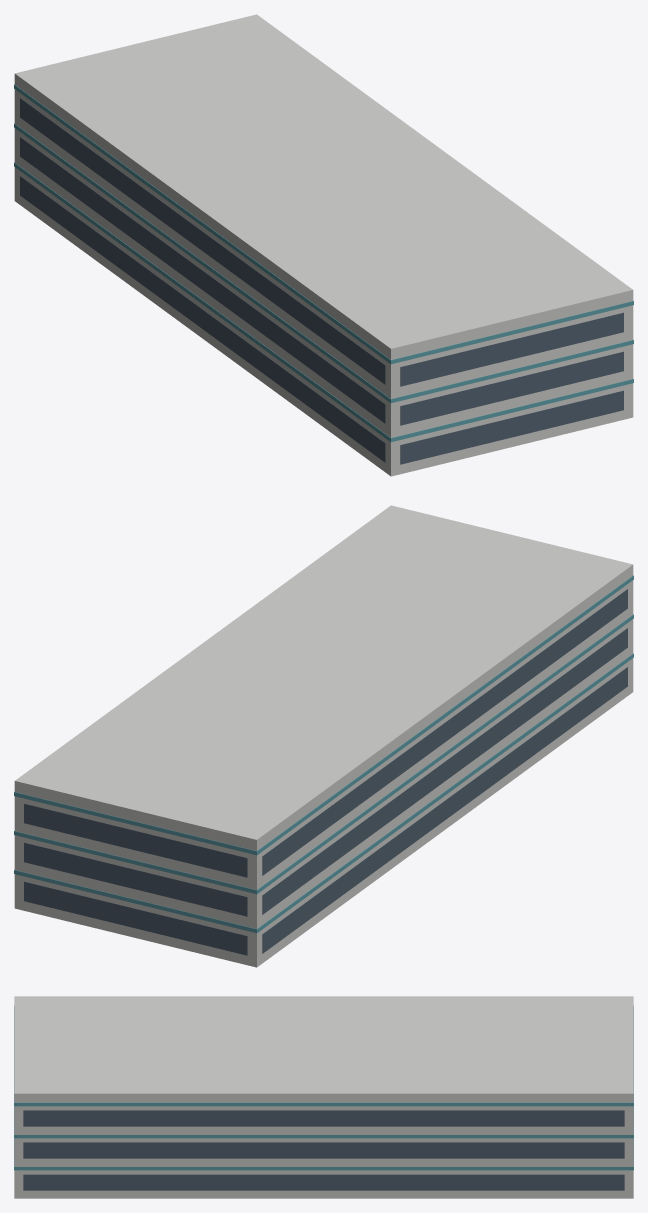
The model's file is hosp-east.mega-v1.lod2.glb.
The picture shows the model from 3 angles, top to bottom: view 1: azimuth 30°, elevation 25°; view 2: azimuth 150°, elevation 25°; view 3: azimuth 270°, elevation 25°; orthographic projection. The views are drawn at different scales.
Visible parts, largest first — view 1: hosp-east; view 2: hosp-east; view 3: hosp-east.
Part boxes in pixels (<box>): hosp-east: <box>14,14,633,476</box>; hosp-east: <box>14,505,633,967</box>; hosp-east: <box>14,996,633,1198</box>.
Size of the model in its own units: 26.1 by 13.1 by 70.1.
